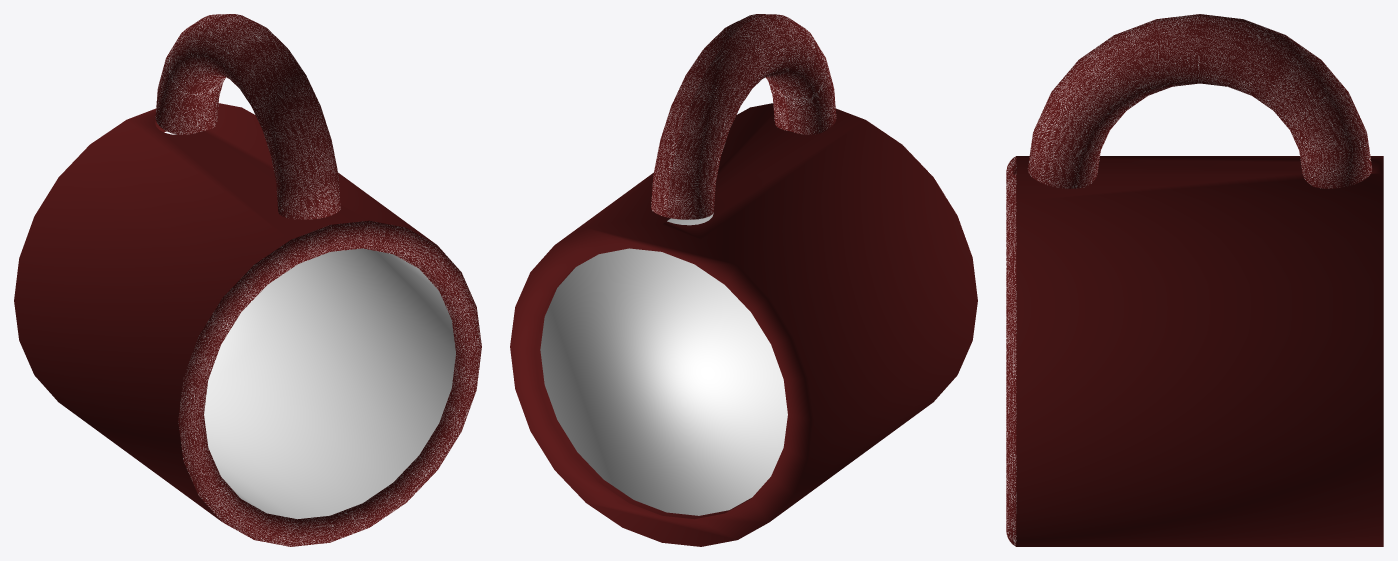
The model's file is model_scale.obj.
3 renders of one model, left to right at view 1: azimuth 30°, elevation 25°; view 2: azimuth 150°, elevation 25°; view 3: azimuth 270°, elevation 25°, orthographic. The views are drawn at different scales.
Visible parts, largest first — view 1: mesh1_mesh1-geometry; view 2: mesh1_mesh1-geometry; view 3: mesh1_mesh1-geometry.
Boxes of the visible parts, <box> form: mesh1_mesh1-geometry: <box>14,14,481,546</box>; mesh1_mesh1-geometry: <box>510,14,977,546</box>; mesh1_mesh1-geometry: <box>1006,14,1383,546</box>.
Bounding box in the file's own units: 0.0799 × 0.1151 × 0.0768.
